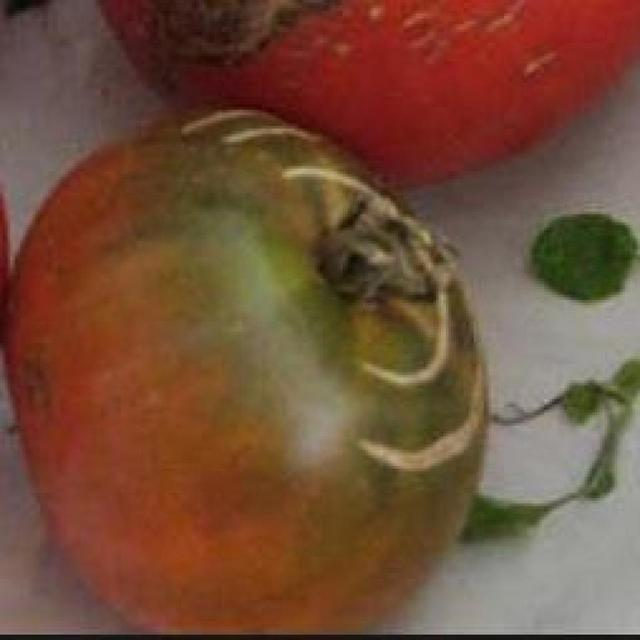Cracking Fruit: (111, 41, 277, 284)
